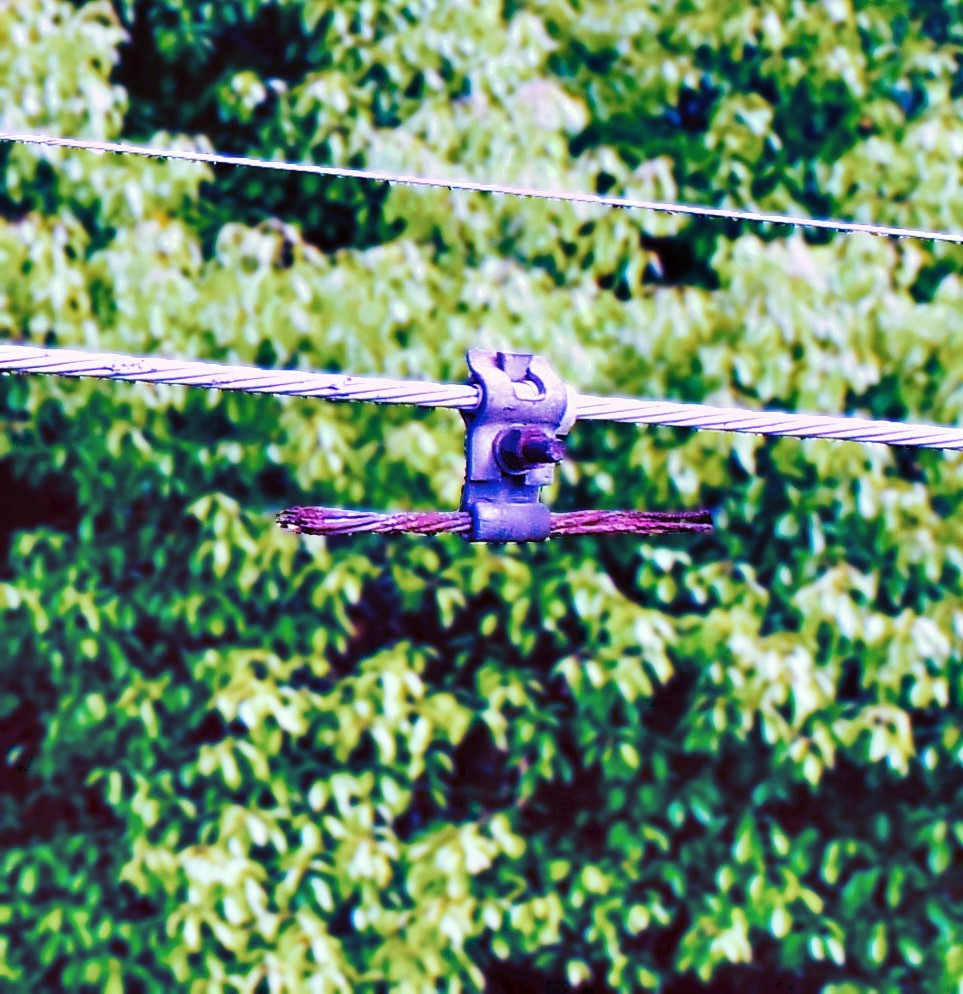Damage of shockproof hammer: (261, 342, 724, 562)
